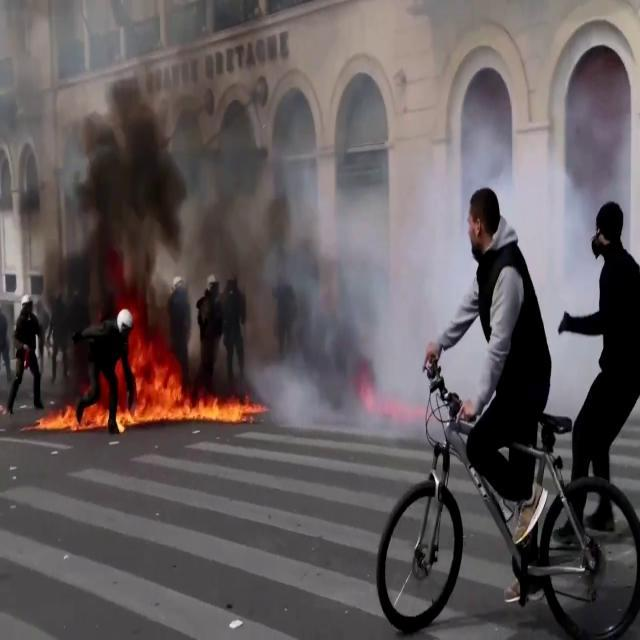Fire: (114, 334, 258, 434), (36, 393, 108, 435)
Smoke: (12, 14, 351, 364), (341, 133, 595, 416)
